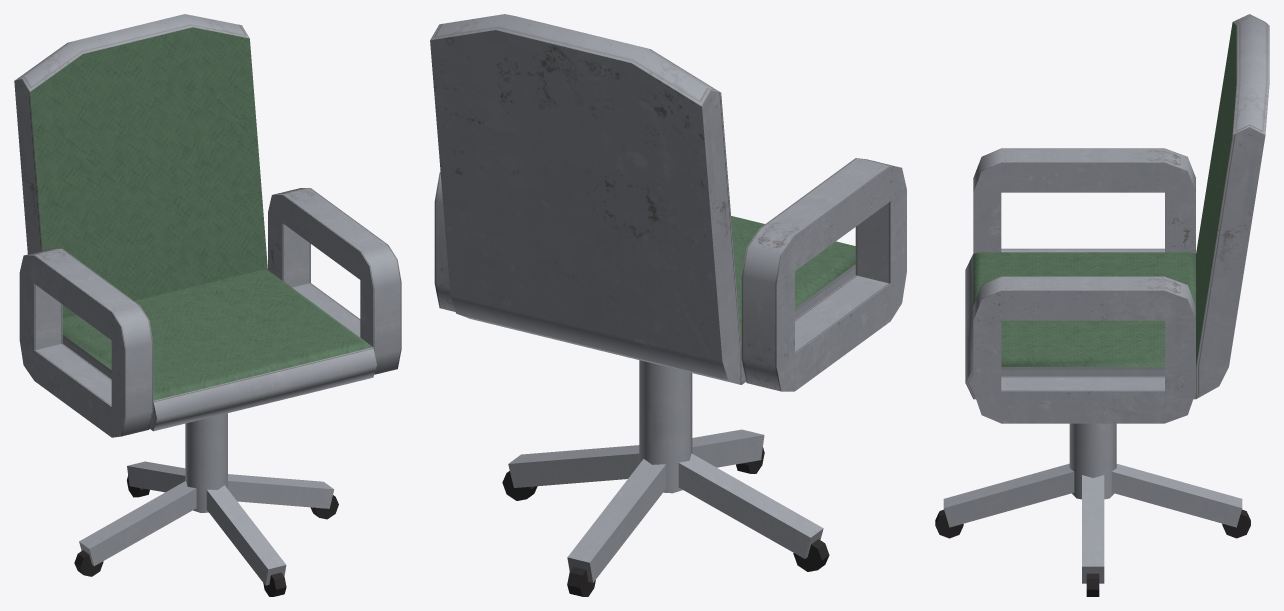
File: Fbx_Prop_Lab_DeskChair.fbx
3 renders of one model, left to right at view 1: azimuth 30°, elevation 25°; view 2: azimuth 150°, elevation 25°; view 3: azimuth 270°, elevation 25°, orthographic. The views are drawn at different scales.
Visible parts, largest first — view 1: pCube6, pCube5, pCube21, pCube7, pCylinder12, pCylinder1, pCylinder2, pCylinder10, pCylinder11; view 2: pCube6, pCube21, pCylinder1, pCylinder12, pCylinder11, pCylinder10, pCube5, pCylinder2, pCube7, pCylinder15, pCylinder14; view 3: pCube7, pCube6, pCube5, pCube21, pCylinder2, pCylinder11, pCylinder1, pCylinder10.
Boxes of the visible parts, x1,y1,x2,y2 form: pCube6: [14, 14, 267, 318]; pCube5: [62, 269, 376, 431]; pCube21: [19, 248, 153, 437]; pCube7: [268, 188, 401, 374]; pCylinder12: [79, 481, 196, 566]; pCylinder1: [185, 413, 227, 512]; pCylinder2: [206, 485, 286, 585]; pCylinder10: [228, 474, 334, 508]; pCylinder11: [127, 461, 185, 492]; pCube6: [430, 14, 741, 384]; pCube21: [741, 158, 906, 391]; pCylinder1: [639, 360, 692, 493]; pCylinder12: [678, 453, 823, 558]; pCylinder11: [567, 459, 665, 582]; pCylinder10: [508, 445, 639, 487]; pCube5: [731, 216, 855, 384]; pCylinder2: [692, 429, 764, 467]; pCube7: [434, 171, 455, 311]; pCylinder15: [793, 539, 829, 571]; pCylinder14: [567, 566, 595, 596]; pCube7: [973, 276, 1195, 423]; pCube6: [1196, 14, 1269, 398]; pCube5: [965, 252, 1195, 399]; pCube21: [973, 148, 1195, 253]; pCylinder2: [943, 463, 1074, 527]; pCylinder11: [1112, 464, 1242, 527]; pCylinder1: [1069, 423, 1116, 499]; pCylinder10: [1082, 475, 1104, 583].
Bounding box in the file's own units: 88.62 × 142 × 87.8.
